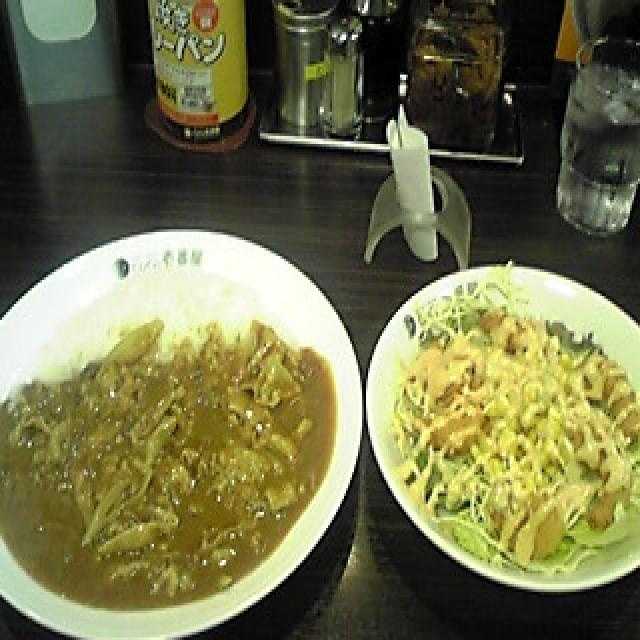Beef Curry: (0, 342, 350, 598)
